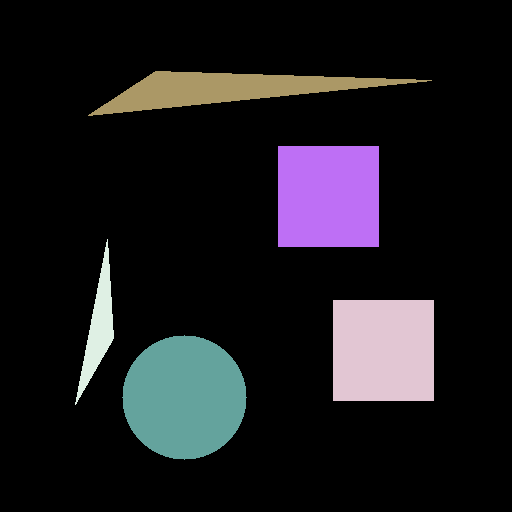circle: (122, 335, 246, 459)
square: (333, 300, 433, 400), (278, 146, 378, 246)
triangle: (88, 71, 431, 115), (75, 239, 113, 404)
